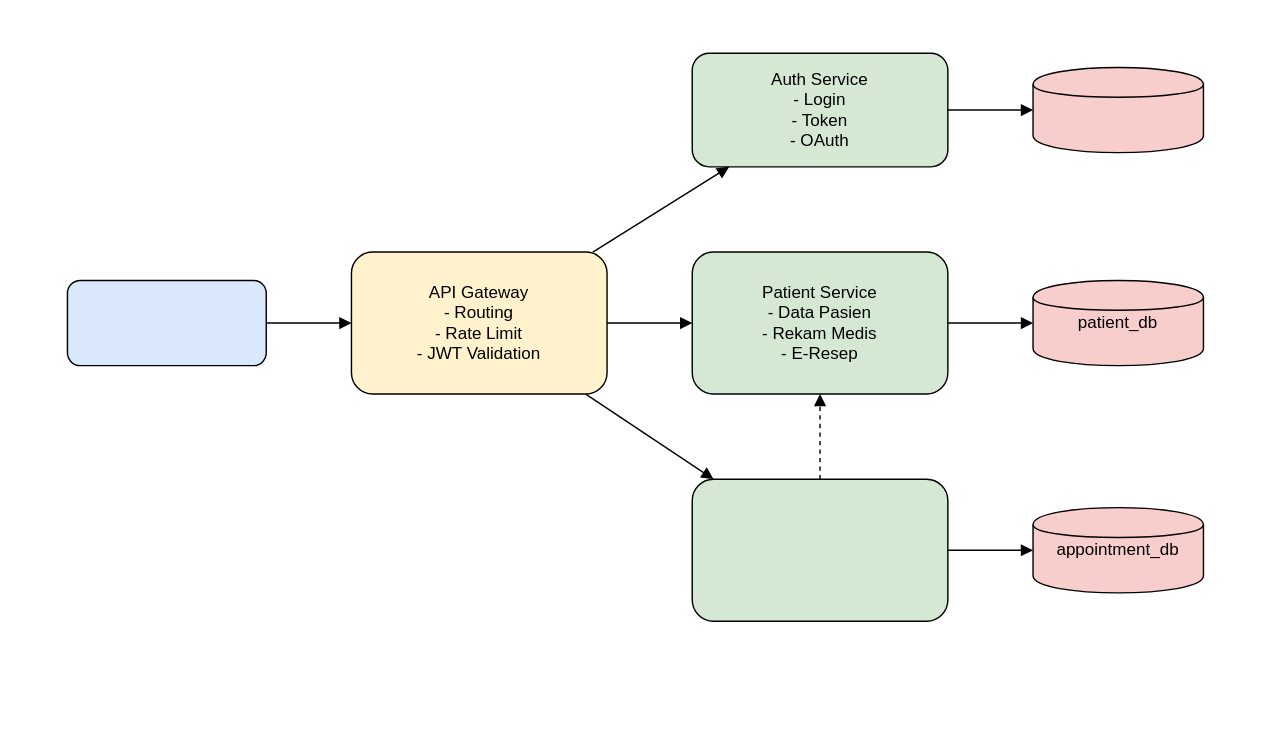
Image size: 1285x731. Some labels were removed from this diagram. The centre of each missing label's shape, as x and y in pixels:
"Appointment Service - Jadwal Dokter - Reservasi - Booking Logic" goes at point (819, 549).
"auth_db" goes at point (1117, 109).
"Client (Web / Mobile)" goes at point (166, 322).
